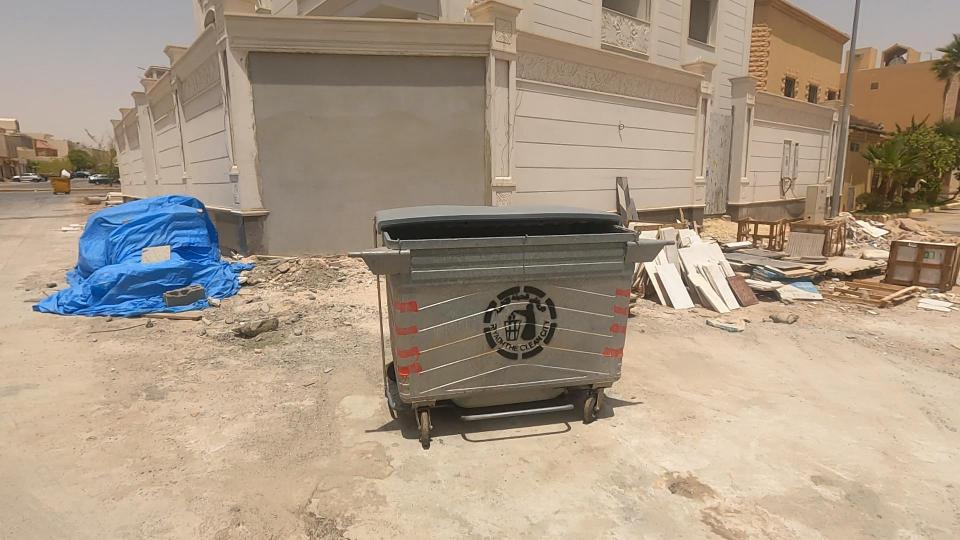GARBAGE: (565, 159, 816, 387), (742, 169, 899, 334), (689, 205, 870, 344), (795, 245, 960, 349), (809, 159, 923, 306), (189, 288, 319, 379)
